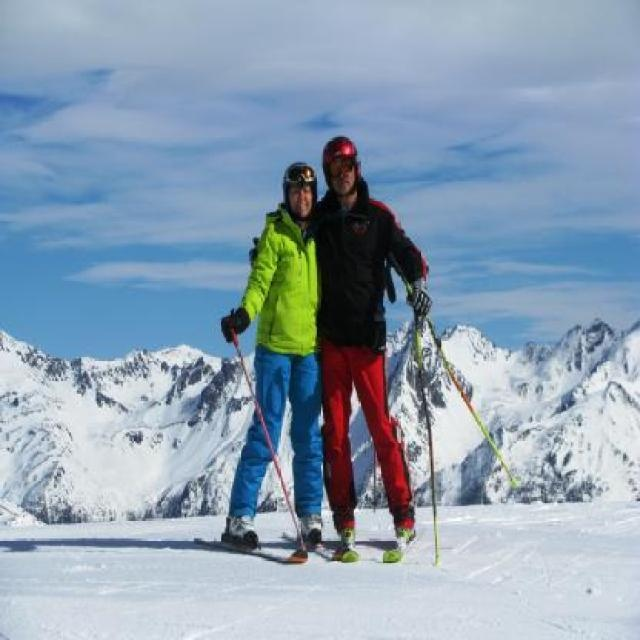obstacle: (250, 134, 432, 560)
